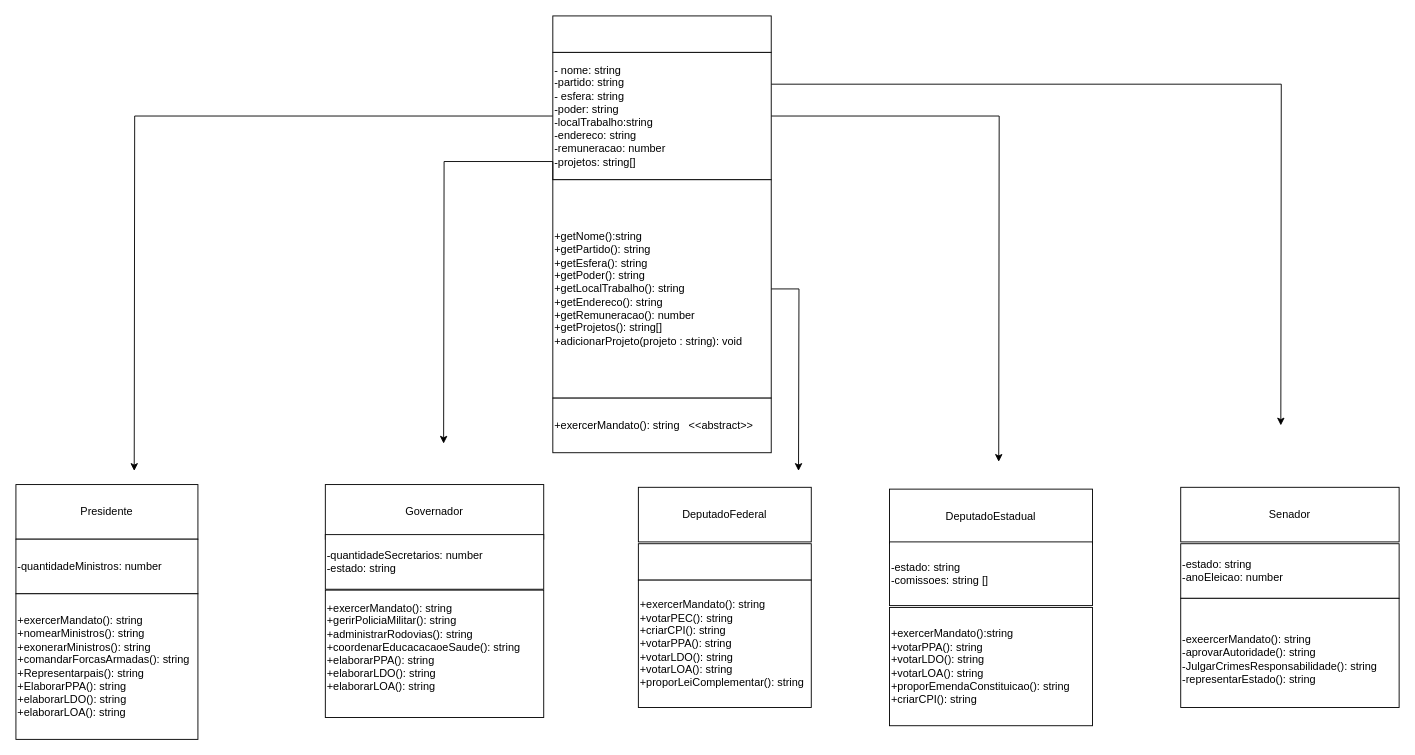
This 1415x755 diagram has some shape labels left out. Each missing label, with the centre of its shape:
-bancada: string: (x=724, y=561)
<<Abstract>> Politico: (x=661, y=33)
